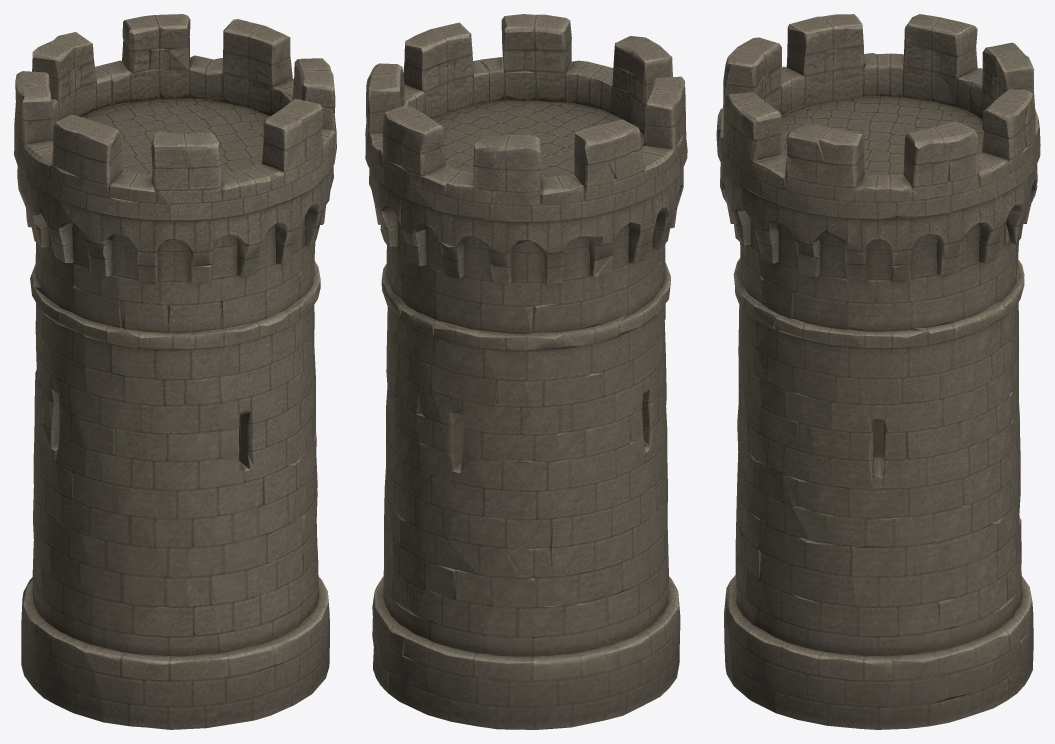
File: wall_tower.glb
The picture shows the model from 3 angles, left to right: view 1: azimuth 30°, elevation 25°; view 2: azimuth 150°, elevation 25°; view 3: azimuth 270°, elevation 25°; orthographic projection.
Visible parts, largest first — view 1: output_unwrapped; view 2: output_unwrapped; view 3: output_unwrapped.
Boxes of the visible parts, box(x1,y1,x2,y2) form: output_unwrapped: box(14, 14, 336, 729); output_unwrapped: box(365, 14, 687, 729); output_unwrapped: box(716, 14, 1040, 729).
Bounding box in the file's own units: 0.945 × 1.9 × 0.9471.
1 material, 1 textured.
